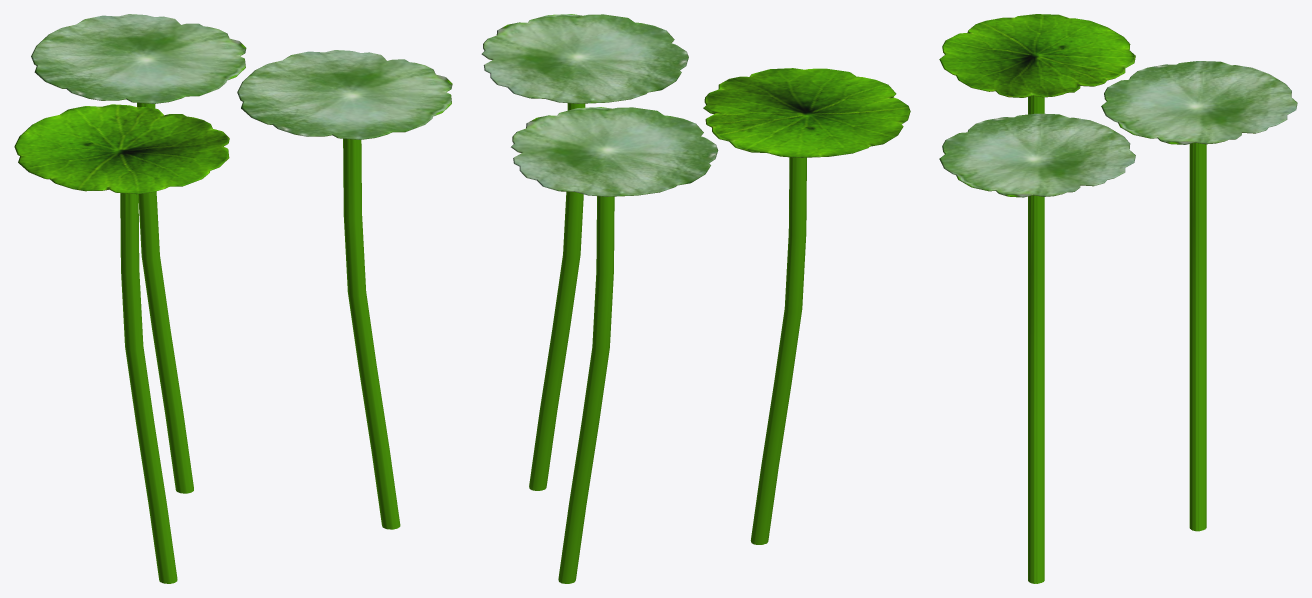
File: jinqiancao.FBX
The picture shows the model from 3 angles, left to right: view 1: azimuth 30°, elevation 25°; view 2: azimuth 150°, elevation 25°; view 3: azimuth 270°, elevation 25°; orthographic projection. The views are drawn at different scales.
Parts seen in each view (by area): view 1: Line002, Line001, Line003; view 2: Line003, Line001, Line002; view 3: Line003, Line002, Line001.
Boxes of the visible parts, left/top/right/bottom form: Line002: left=237, top=50, right=452, bottom=529; Line001: left=14, top=104, right=229, bottom=583; Line003: left=31, top=14, right=246, bottom=493; Line003: left=511, top=107, right=718, bottom=583; Line001: left=703, top=68, right=910, bottom=544; Line002: left=481, top=14, right=688, bottom=490; Line003: left=1101, top=61, right=1297, bottom=531; Line002: left=939, top=113, right=1135, bottom=583; Line001: left=939, top=14, right=1135, bottom=114.
Size of the model in its own units: 55.04 by 56.76 by 45.5.
Materials: 1 (1 with a texture image).
